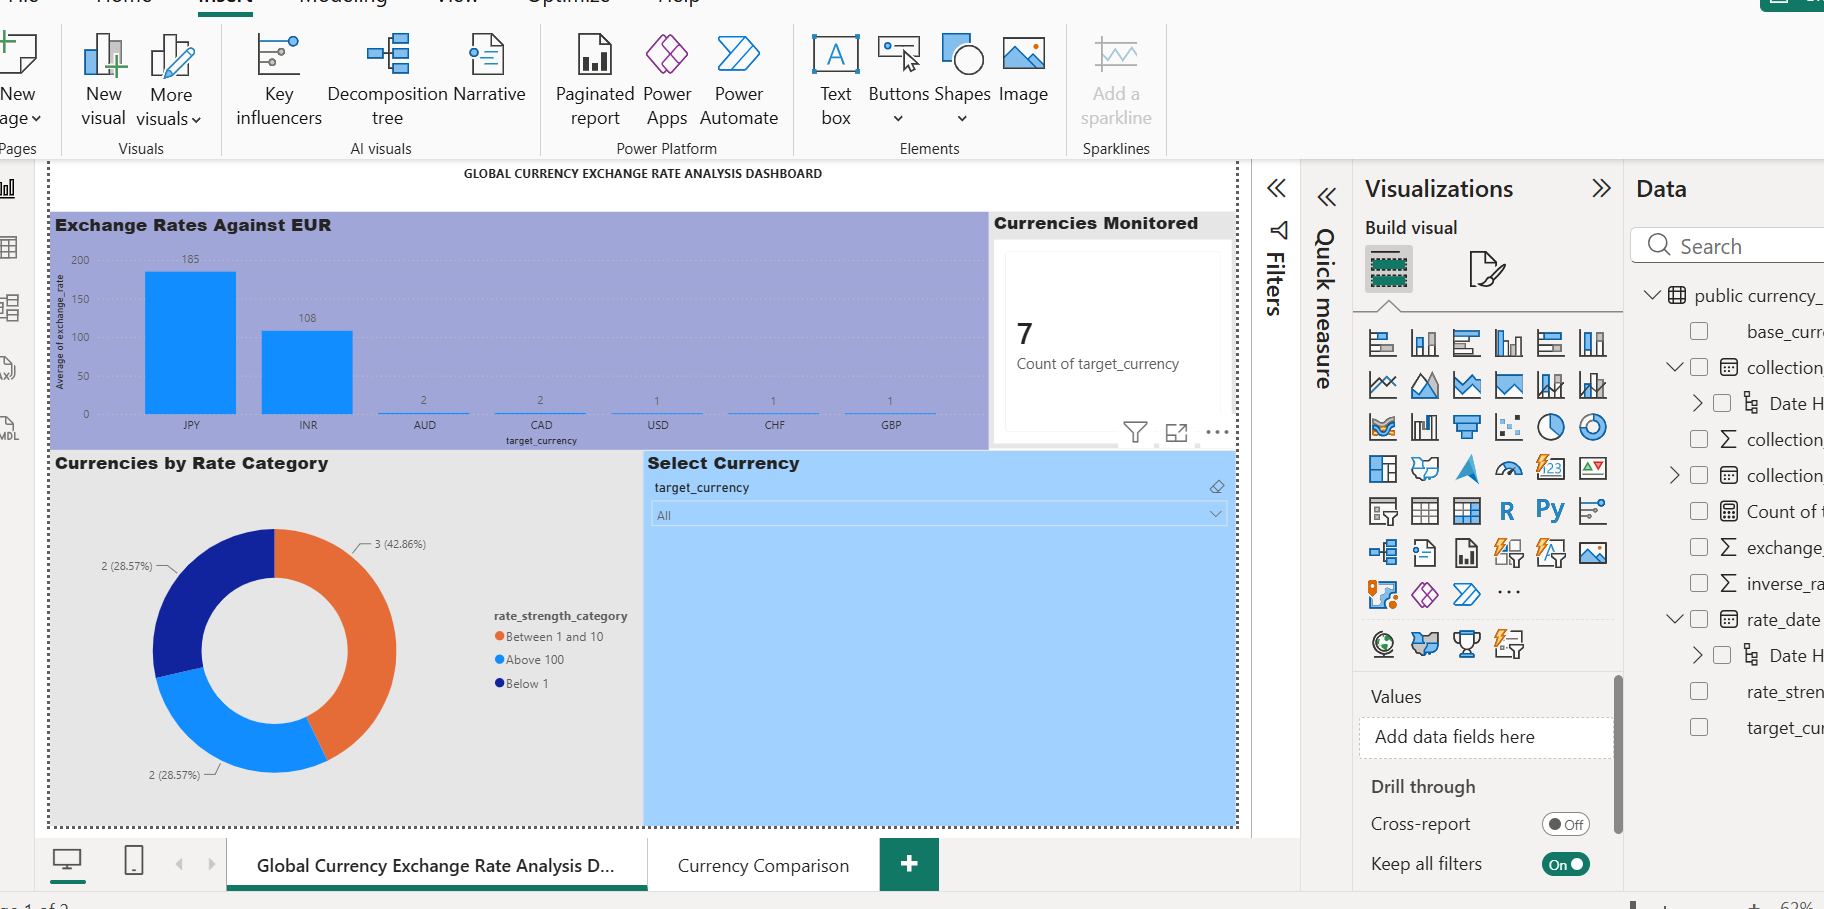

The page's visual inventory and layout, read from the dashboard file:
{"tool":"powerbi","page":{"name":"Global Currency Exchange Rate Analysis Dashboard","canvas":[1280,720],"ordinal":0},"visuals":[{"type":"cardVisual","title":"Currencies Monitored","fields":{"Data":["CountNonNull(public currency_rates.target_currency)"]},"box":[1013.6,55.1,267.2,257.5],"z":0},{"type":"clusteredColumnChart","title":"Exchange Rates Against EUR","fields":{"Category":["public currency_rates.target_currency"],"Y":["Avg(public currency_rates.exchange_rate)"]},"box":[0,56.7,1013.6,257.5],"z":1000},{"type":"donutChart","title":"Currencies by Rate Category","fields":{"Category":["public currency_rates.rate_strength_category"],"Y":["Count(public currency_rates.target_currency)"]},"box":[0,314.1,641.2,406.4],"z":2000},{"type":"slicer","title":"Select Currency","fields":{"Values":["public currency_rates.target_currency"]},"box":[639.6,314.1,641.2,406.4],"z":3000},{"type":"textbox","box":[0,0,1280.8,56.7],"z":4000}]}

Visuals, with their boxes on the page's 1280x720 design canvas (x1, y1, x2, y2). These are canvas units, not pixel positions in the 1824x909 screenshot, which may show the page scaled, cropped or inside an application window:
"Currencies Monitored" cardVisual: bbox=[1014, 55, 1281, 313]
"Exchange Rates Against EUR" clusteredColumnChart: bbox=[0, 57, 1014, 314]
"Currencies by Rate Category" donutChart: bbox=[0, 314, 641, 720]
"Select Currency" slicer: bbox=[640, 314, 1281, 720]
textbox: bbox=[0, 0, 1281, 57]
